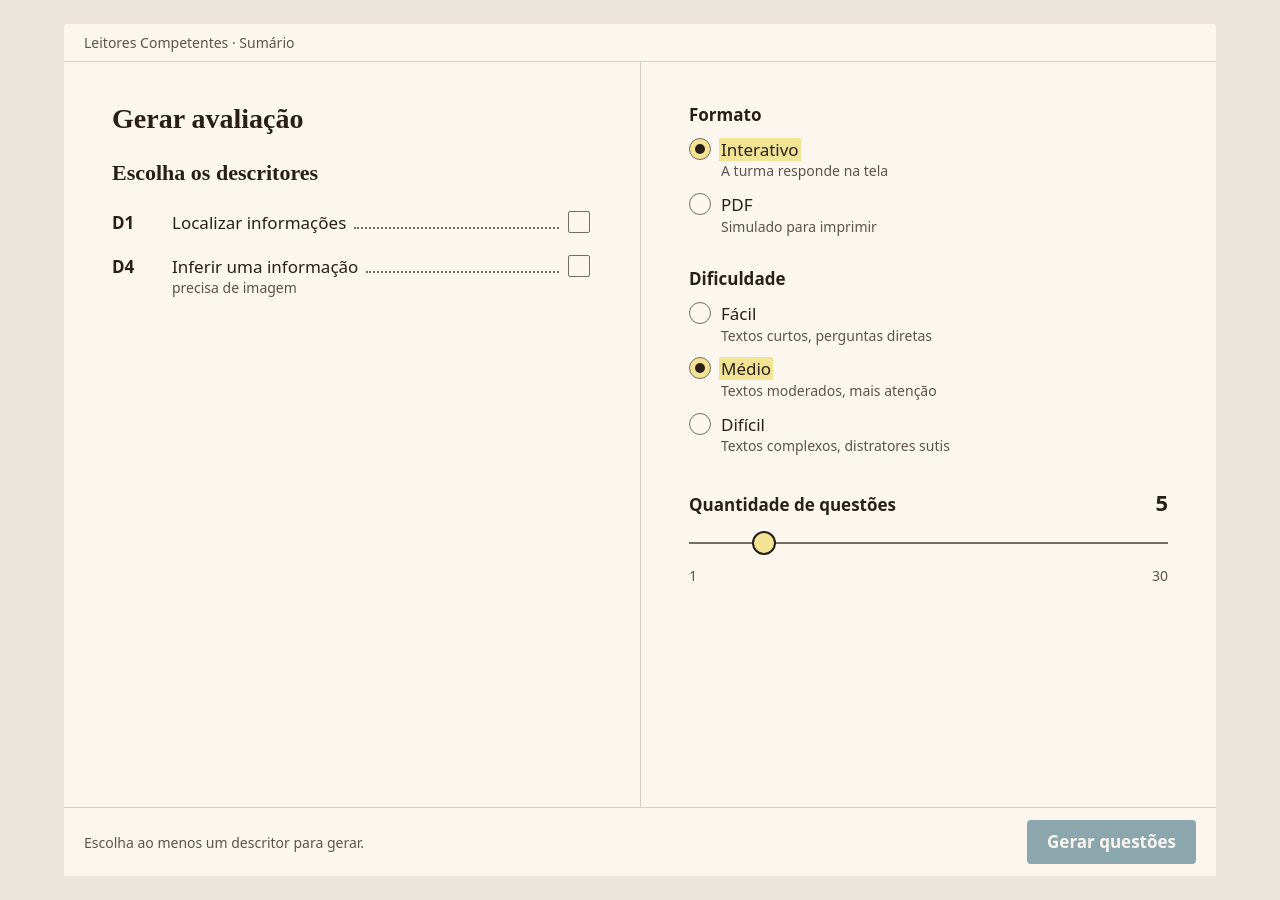
Test: GenerateScreen › keeps submit disabled without a chosen descriptor
Check: the button "Gerar questões" is disabled, box [1027, 820, 1196, 864]
Check: the text "Escolha ao menos um descritor para gerar." is shown, box [84, 832, 364, 852]
What coordinates should you click on to do the following:
click the checkbox labelled "D1 Localizar informações"
I would click on:
 (579, 222)
Its box is [568, 211, 590, 233].
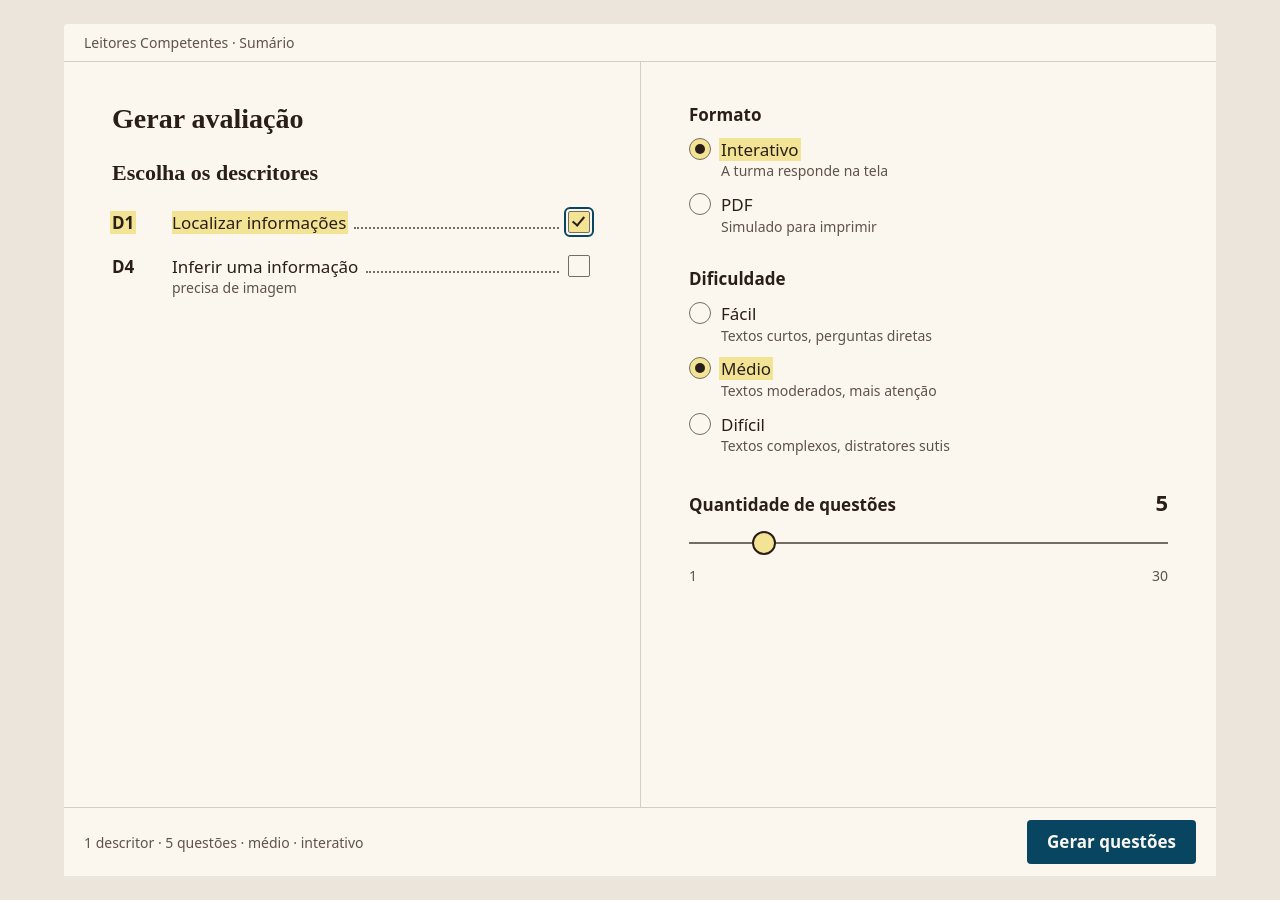
Check: the button "Gerar questões" is enabled, box [1027, 820, 1196, 864]
Check: the text "1 descritor · 5 questões · médio · interativo" is shown, box [84, 832, 364, 852]
What coordinates should you click on to do the following:
click the checkbox labelled "D1 Localizar informações"
I would click on:
 (579, 222)
Its box is [568, 211, 590, 233].
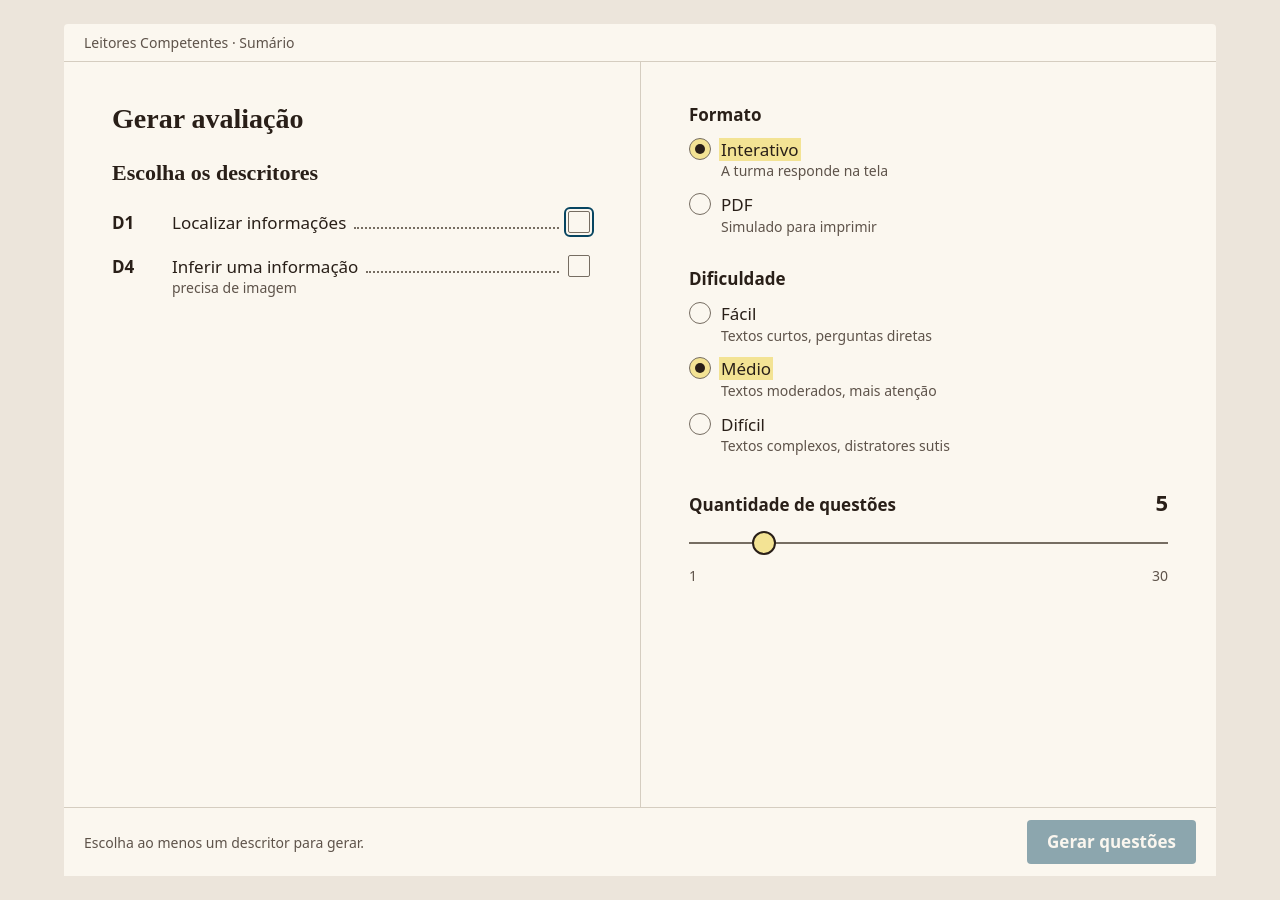
Check: the button "Gerar questões" is disabled, box [1027, 820, 1196, 864]
